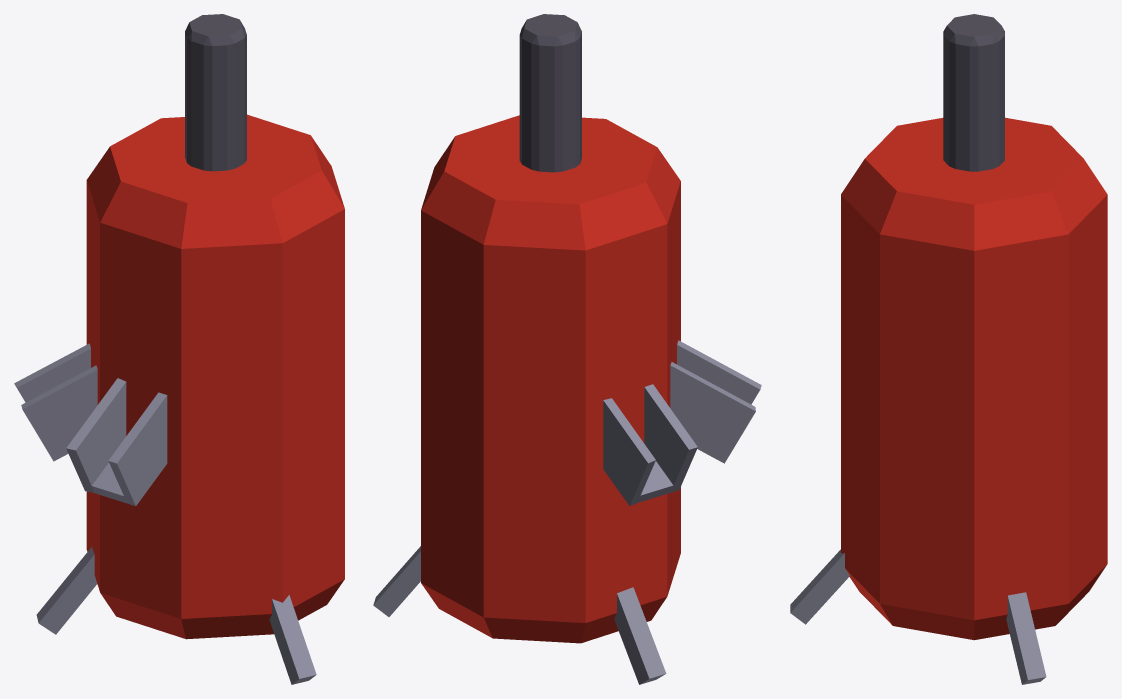
Rendered from advanced_miner.glb.
3 views of the same model, side by side, from view 1: azimuth 30°, elevation 25°; view 2: azimuth 150°, elevation 25°; view 3: azimuth 270°, elevation 25° (orthographic).
Parts seen in each view (by area): view 1: Cylinder.001, Cube.004, Cube.008, Cube.007, Cube.005; view 2: Cylinder.001, Cube.008, Cube.004, Cube.005, Cube.006; view 3: Cylinder.001, Cube.006, Cube.007.
Part boxes in pixels (x1=…): Cylinder.001: x1=86, y1=14, x2=344, y2=639; Cube.004: x1=66, y1=378, x2=167, y2=506; Cube.008: x1=14, y1=343, x2=97, y2=461; Cube.007: x1=269, y1=595, x2=316, y2=684; Cube.005: x1=36, y1=547, x2=97, y2=634; Cylinder.001: x1=421, y1=14, x2=680, y2=643; Cube.008: x1=603, y1=384, x2=697, y2=506; Cube.004: x1=670, y1=340, x2=761, y2=463; Cube.005: x1=614, y1=587, x2=666, y2=684; Cube.006: x1=373, y1=546, x2=420, y2=616; Cylinder.001: x1=841, y1=14, x2=1107, y2=640; Cube.006: x1=1006, y1=592, x2=1046, y2=684; Cube.007: x1=790, y1=549, x2=849, y2=624.
Bounding box in the file's own units: 2.8 × 4.97 × 2.38.
